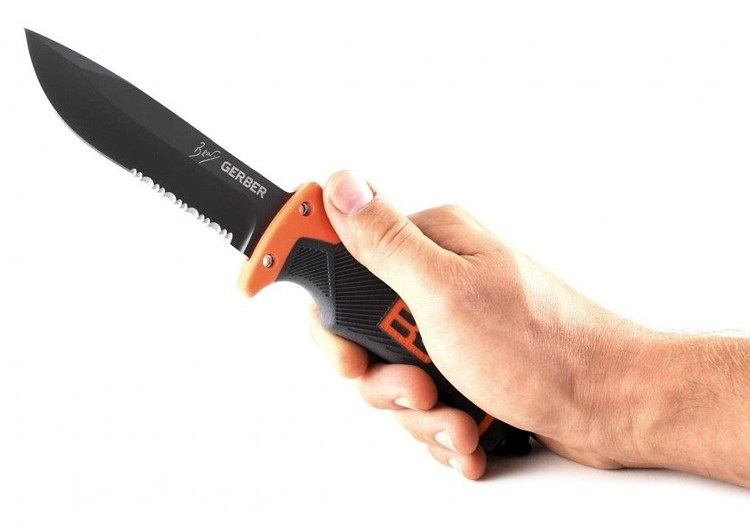knife: (15, 14, 417, 390)
